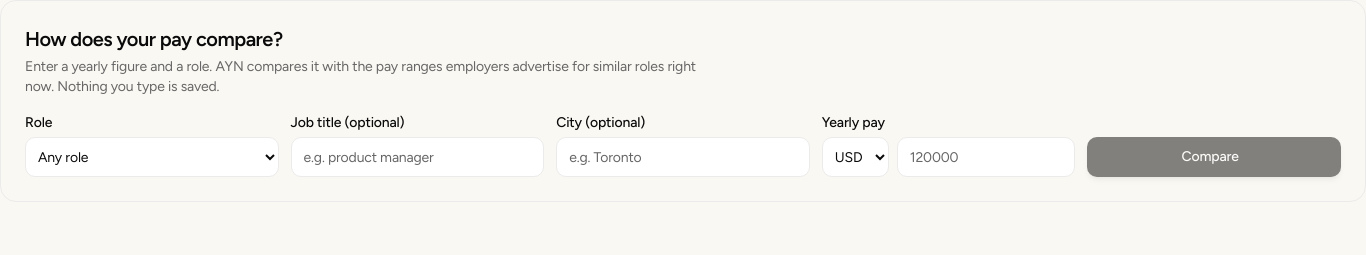
Test case: PayCheck › recovers from a failed request and rejects figures outside server limits
Type "6000000" into the field named "Yearly pay" at x=986, y=157, box top-left (897, 137), bottom-right (1075, 177)
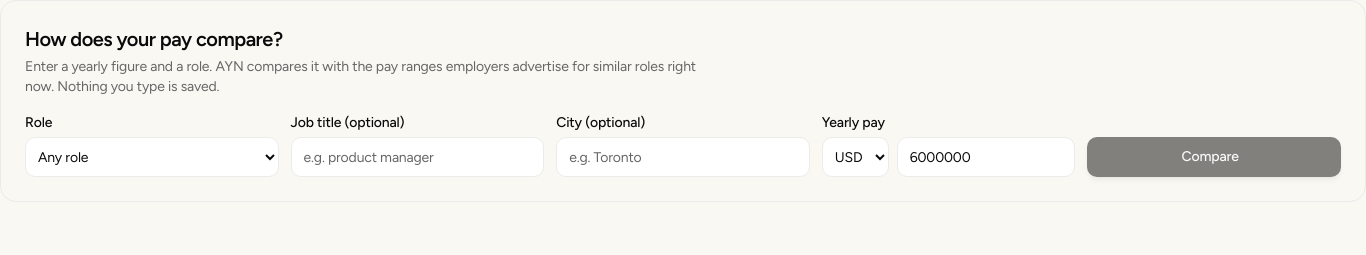
expect the button "Compare" is disabled: met, box top-left (1087, 137), bottom-right (1341, 177)
Replace the text in the field named "Yearly pay" with "100000" at x=986, y=157, box top-left (897, 137), bottom-right (1075, 177)
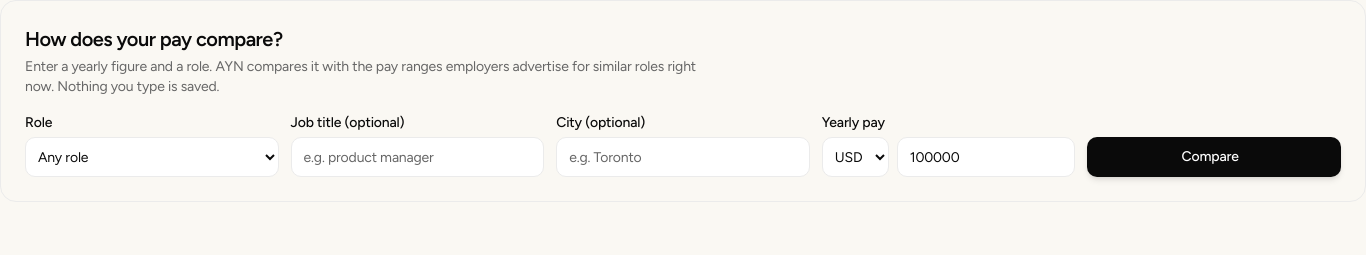
Click the button "Compare" at x=1214, y=157, box top-left (1087, 137), bottom-right (1341, 177)
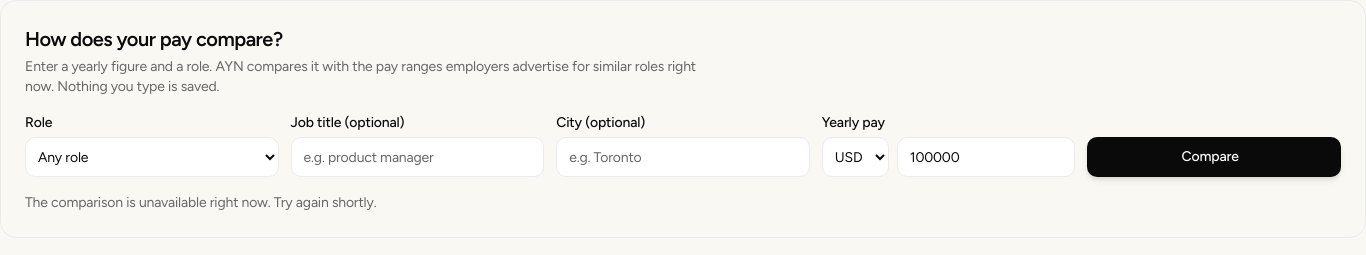
expect the button "Compare" is enabled: met, box top-left (1087, 137), bottom-right (1341, 177)
expect the message "The comparison is unavailable right now. Try again shortly." is shown: met, box top-left (25, 194), bottom-right (376, 211)
